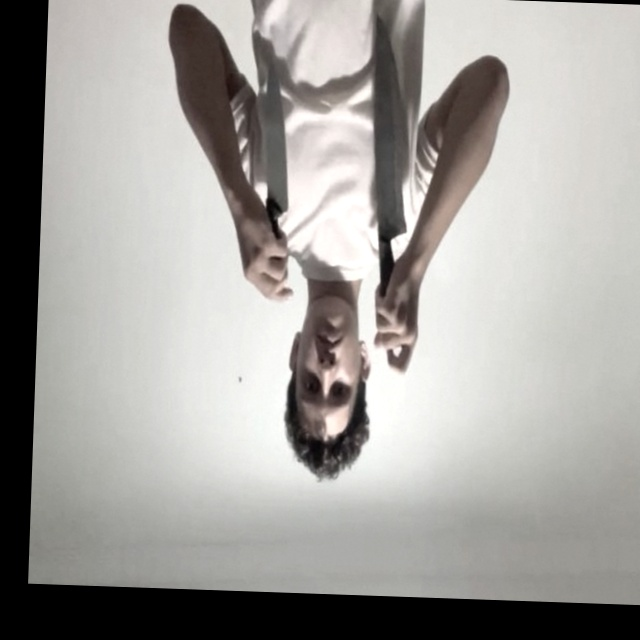Sharp-Object: (367, 17, 414, 239), (261, 62, 294, 212)
